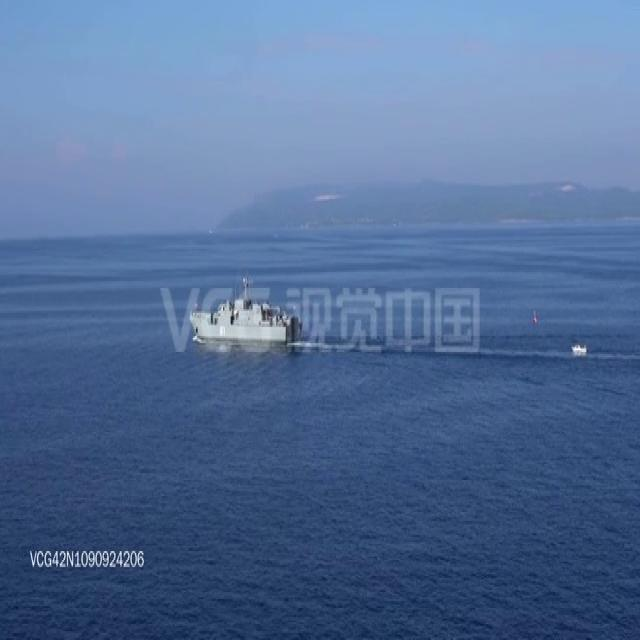houseboat: (571, 338, 588, 355)
navalvessels: (185, 277, 299, 345)
